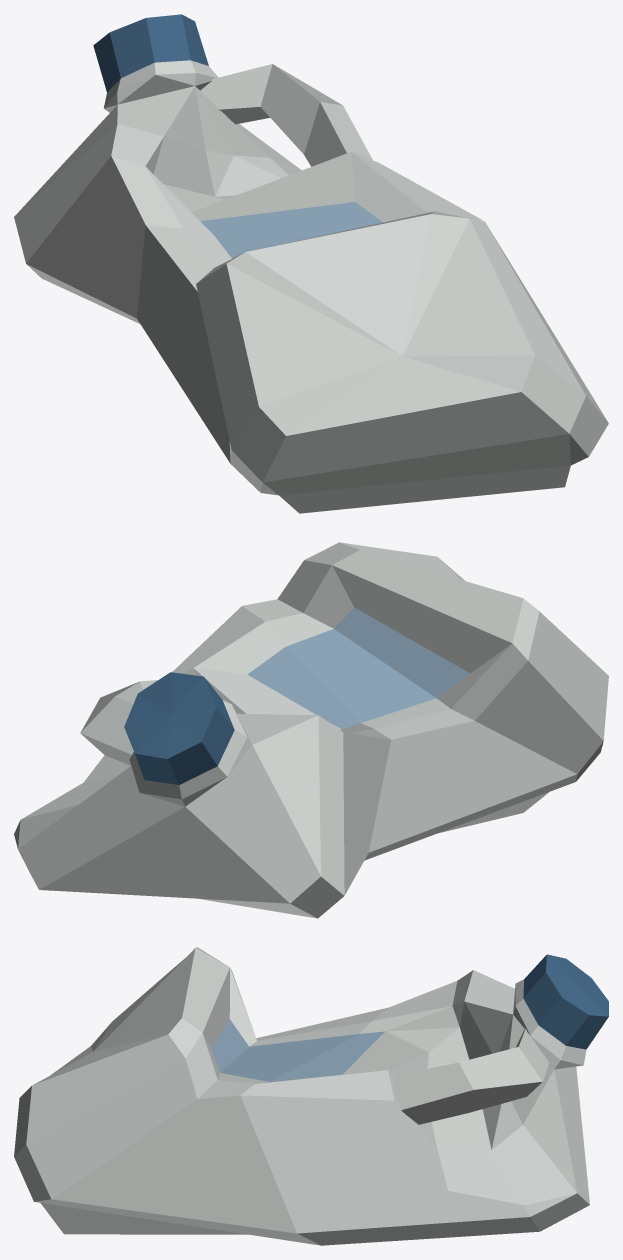
File: SM_Prop_Rubbish_Bottle_01.fbx
3 views of the same model, one above another, from view 1: azimuth 30°, elevation 25°; view 2: azimuth 150°, elevation 25°; view 3: azimuth 270°, elevation 25° (orthographic). The views are drawn at different scales.
Visible parts, largest first — view 1: SM_Prop_Rubbish_Bottle_01; view 2: SM_Prop_Rubbish_Bottle_01; view 3: SM_Prop_Rubbish_Bottle_01.
Boxes of the visible parts, <box> form: SM_Prop_Rubbish_Bottle_01: <box>14,14,608,513</box>; SM_Prop_Rubbish_Bottle_01: <box>14,542,608,918</box>; SM_Prop_Rubbish_Bottle_01: <box>14,947,608,1245</box>.
Bounding box in the file's own units: 24.26 × 18.55 × 41.28.
